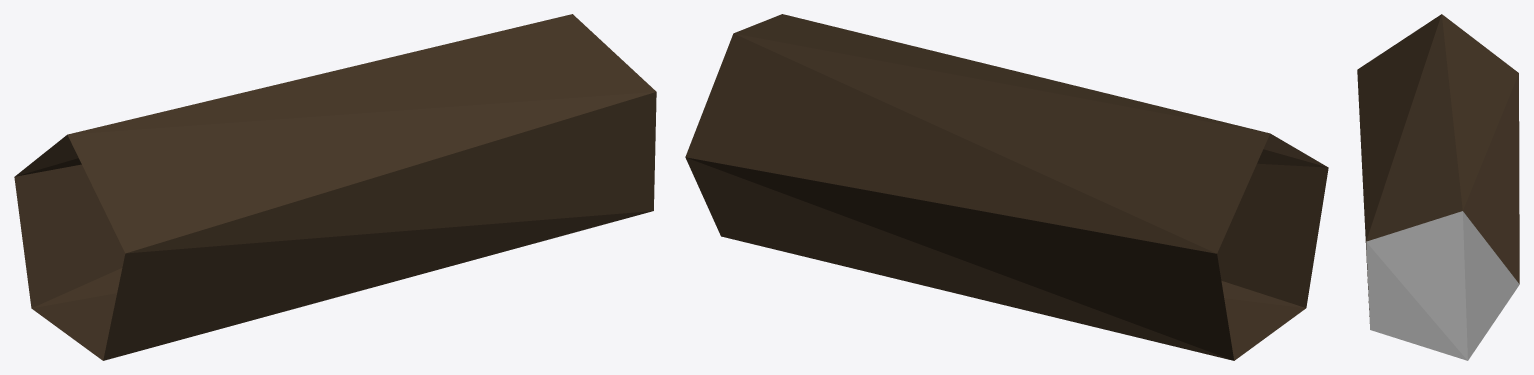
Rendered from NC_LOB_HOUSEPLANKS.OBJ.
3 renders of one model, left to right at view 1: azimuth 30°, elevation 25°; view 2: azimuth 150°, elevation 25°; view 3: azimuth 270°, elevation 25°, orthographic. The views are drawn at different scales.
Parts seen in each view (by area): view 1: NC_LOB_HOUSEPLANKS; view 2: NC_LOB_HOUSEPLANKS; view 3: NC_LOB_HOUSEPLANKS.
Part boxes in pixels (left/top/right/bottom): NC_LOB_HOUSEPLANKS: left=14, top=14, right=656, bottom=360; NC_LOB_HOUSEPLANKS: left=685, top=14, right=1328, bottom=360; NC_LOB_HOUSEPLANKS: left=1357, top=14, right=1519, bottom=360.
Size of the model in its own units: 0.61 by 0.2368 by 0.2193.
